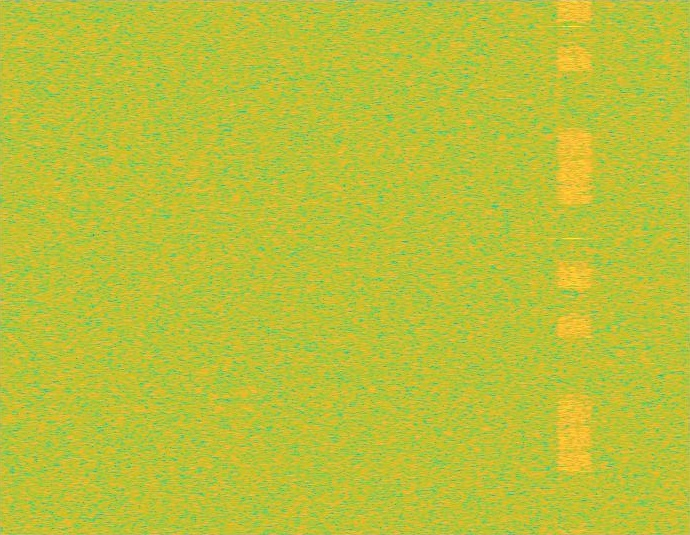LTE: (557, 0, 592, 534)
Radar: (566, 0, 579, 534)
